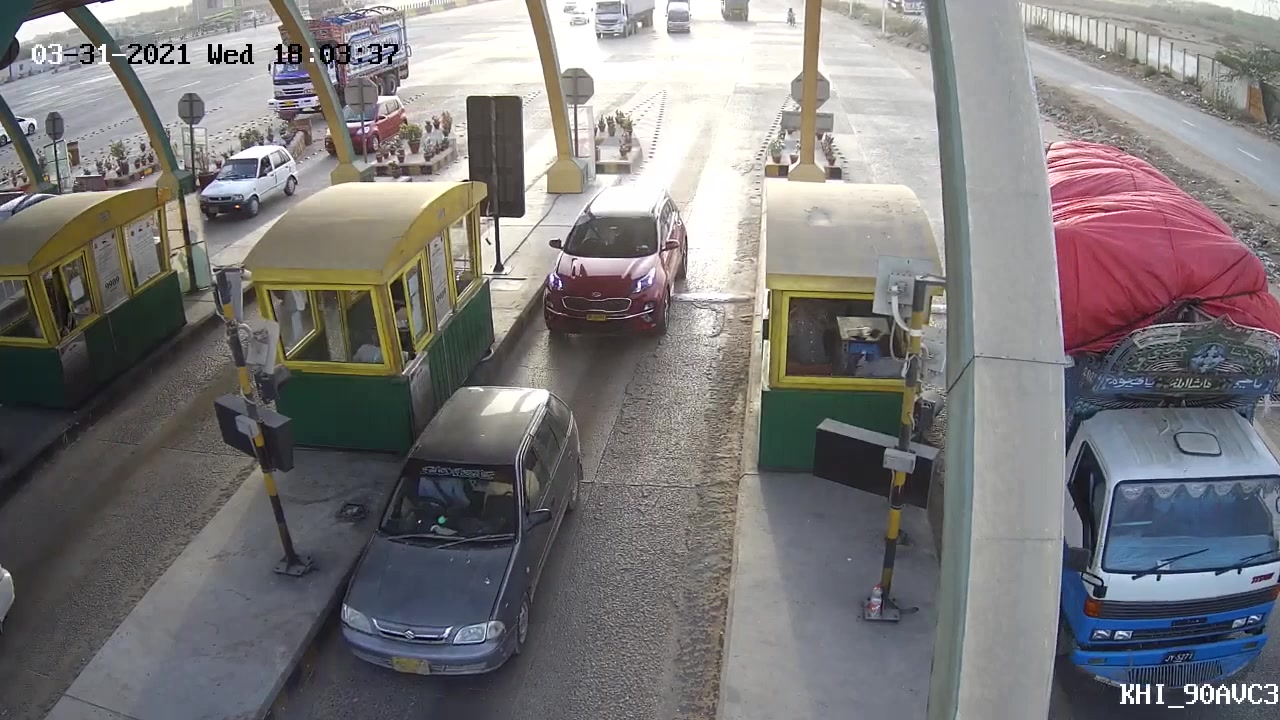F1: (333, 377, 592, 687), (531, 180, 695, 343)
